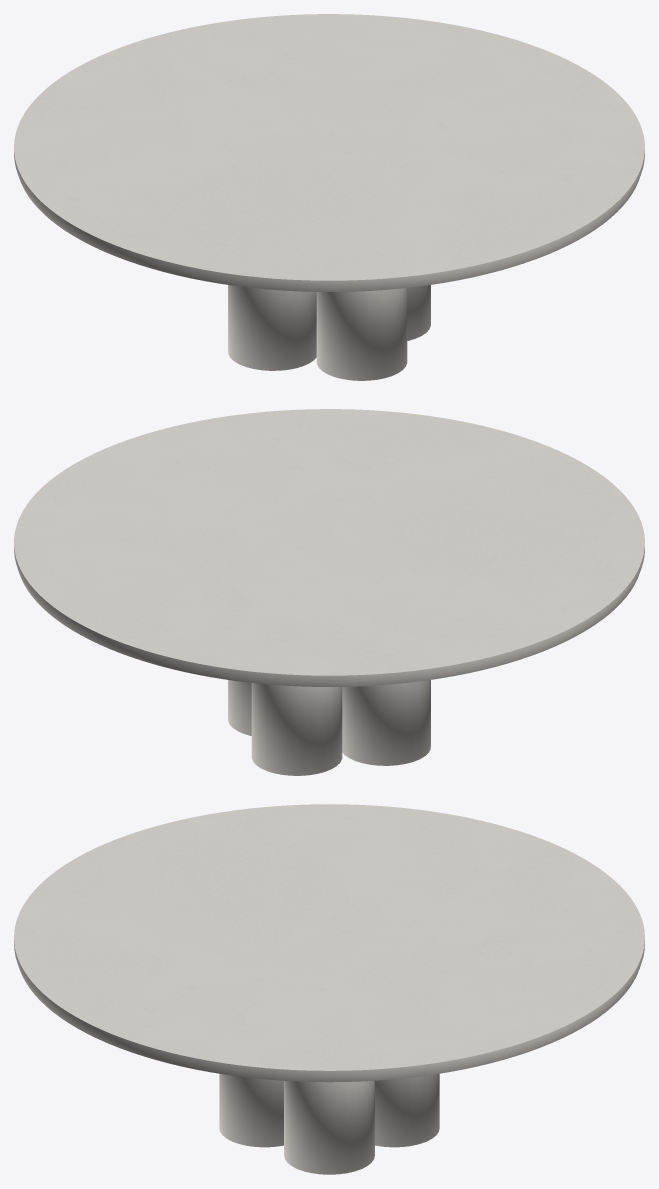
The model's file is pearlwhite_round_facet_secondtable.glb.
3 views of the same model, one above another, from view 1: azimuth 30°, elevation 25°; view 2: azimuth 150°, elevation 25°; view 3: azimuth 270°, elevation 25° (orthographic).
Parts seen in each view (by area): view 1: tabletop_round_facet.014, tableleg_secondtable.016; view 2: tabletop_round_facet.014, tableleg_secondtable.016; view 3: tabletop_round_facet.014, tableleg_secondtable.016.
Part boxes in pixels (box(x1,y1,x2,y2)): tabletop_round_facet.014: box(14, 14, 644, 291); tableleg_secondtable.016: box(228, 285, 430, 380); tabletop_round_facet.014: box(14, 409, 644, 686); tableleg_secondtable.016: box(228, 680, 430, 775); tabletop_round_facet.014: box(14, 804, 644, 1082); tableleg_secondtable.016: box(219, 1073, 439, 1174).
Bounding box in the file's own units: 7.5 × 2.5 × 7.5.
Materials: 1 (1 with a texture image).
